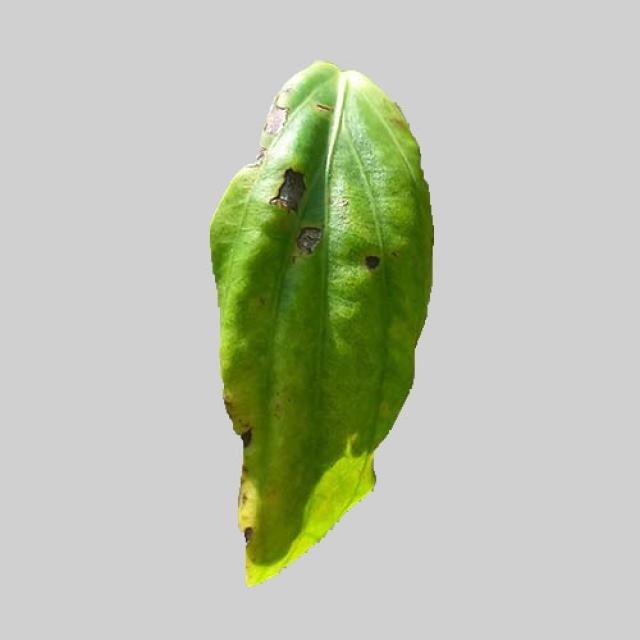yellow-mottle-virus: (194, 67, 436, 586)
